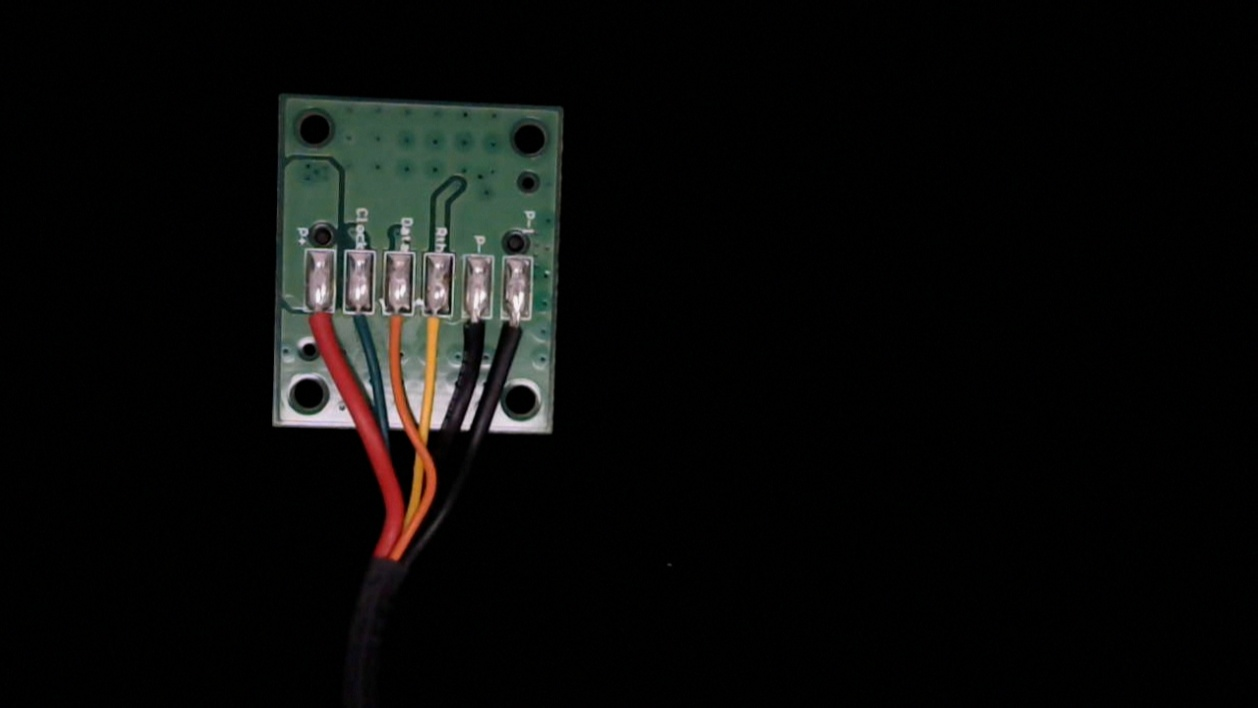Black: (459, 303, 494, 361)
Black1: (502, 301, 533, 352)
Green: (344, 300, 376, 349)
Orange: (385, 298, 414, 364)
Red: (306, 299, 337, 357)
Yellow: (419, 297, 449, 368)
